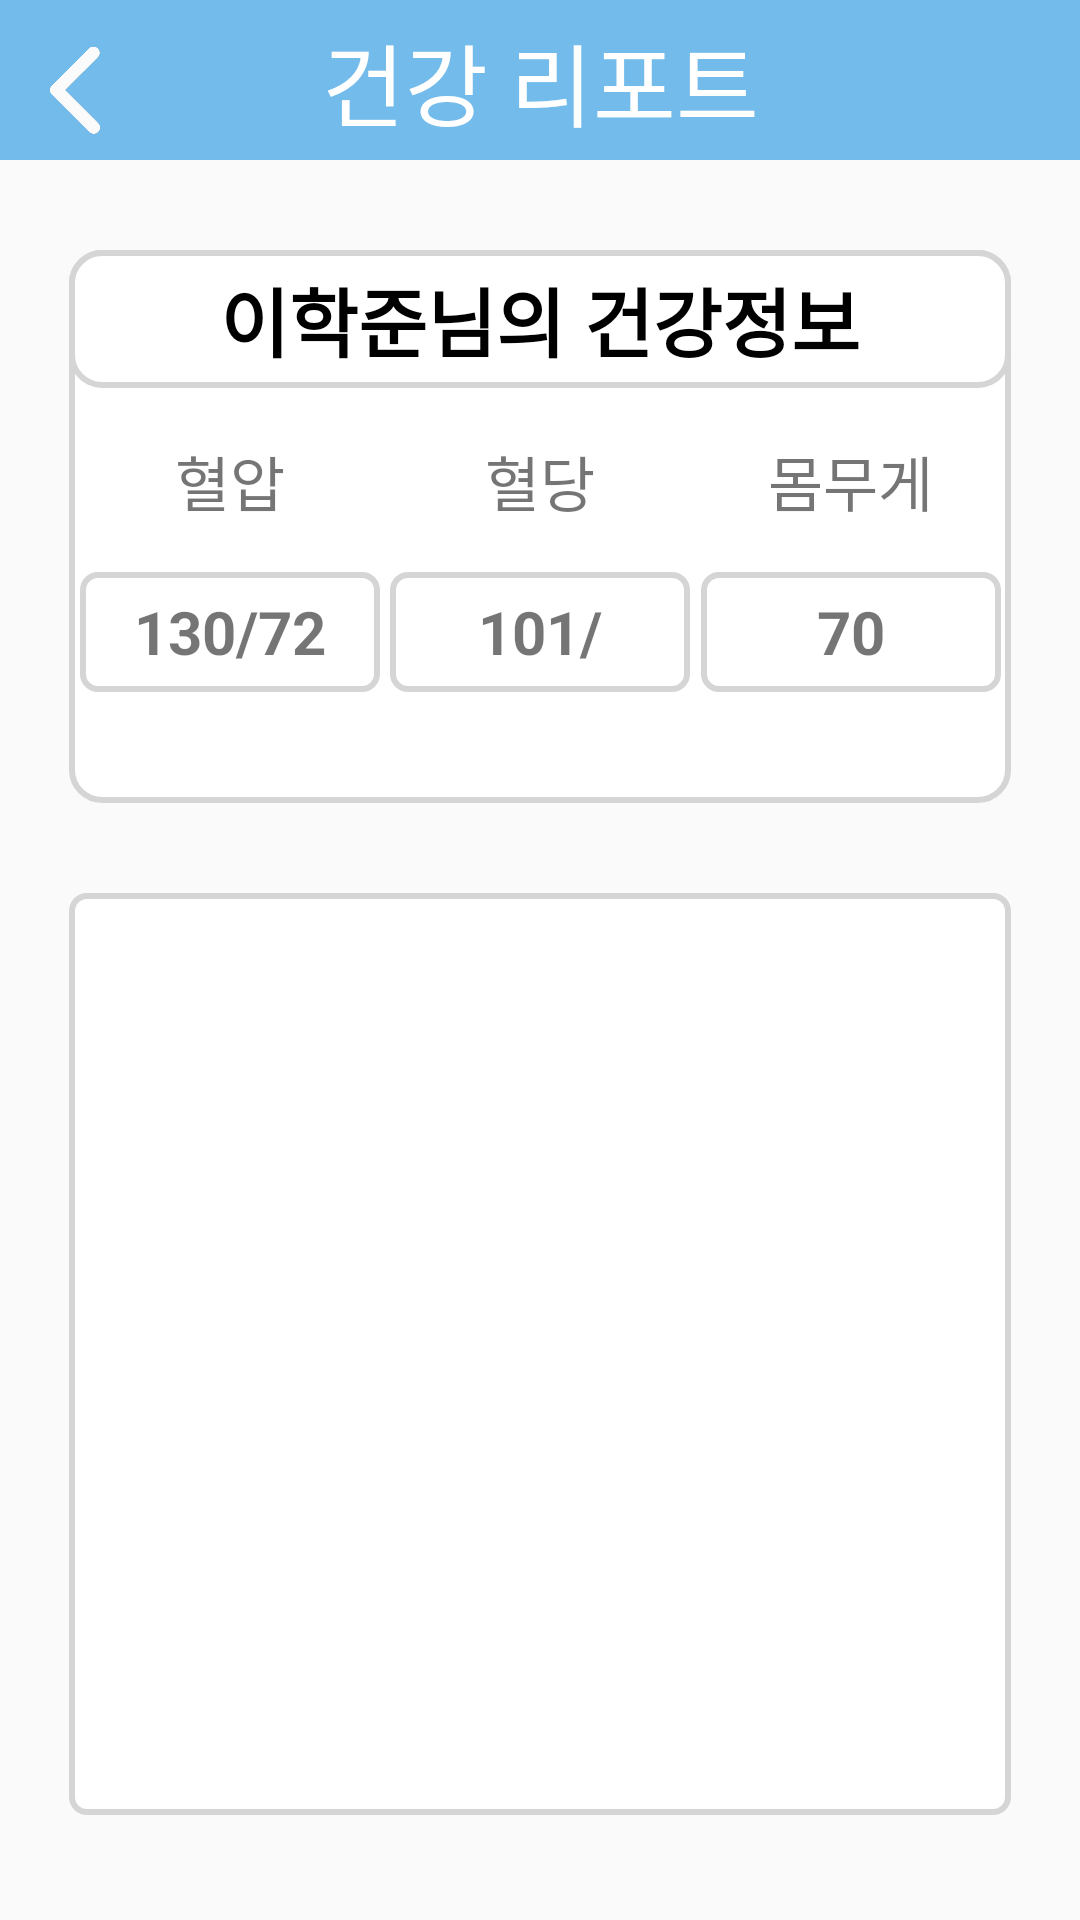

Named icons in this screenshot (1080 x 1920) and their centers, (x=x, y=y):
previous: (x=75, y=90)
